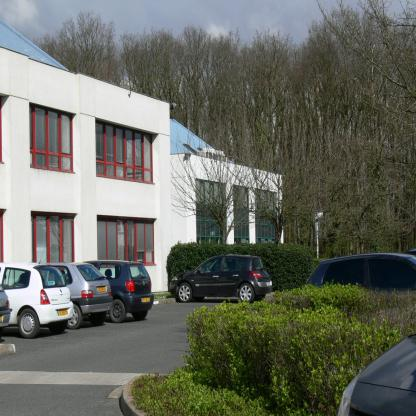Car: (0, 249, 75, 340), (169, 253, 275, 304), (40, 262, 114, 330), (302, 250, 416, 294), (90, 258, 156, 324)
